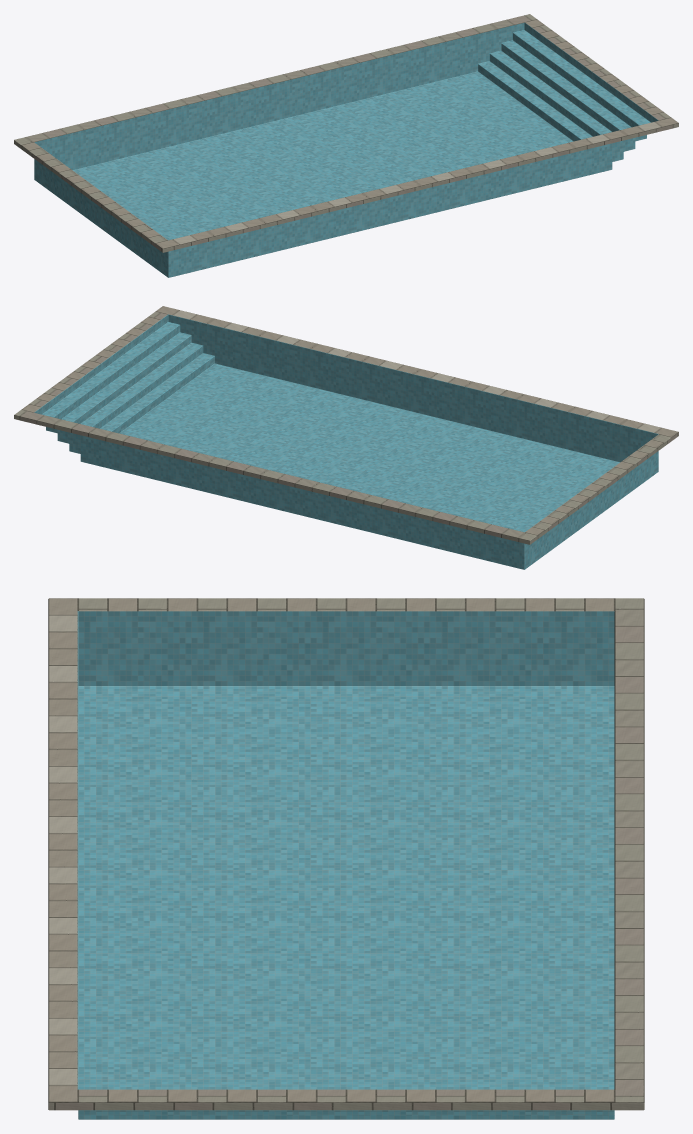
The model's file is Furn_Pool_Basin.fbx.
The picture shows the model from 3 angles, top to bottom: view 1: azimuth 30°, elevation 25°; view 2: azimuth 150°, elevation 25°; view 3: azimuth 270°, elevation 25°; orthographic projection. The views are drawn at different scales.
Visible parts, largest first — view 1: Furn_Pool_Basin; view 2: Furn_Pool_Basin; view 3: Furn_Pool_Basin.
Part boxes in pixels (x1=…): Furn_Pool_Basin: x1=14, y1=14, x2=678, y2=277; Furn_Pool_Basin: x1=14, y1=306, x2=678, y2=569; Furn_Pool_Basin: x1=48, y1=598, x2=644, y2=1119.
Bounding box in the file's own units: 20 × 1.4 × 10.
